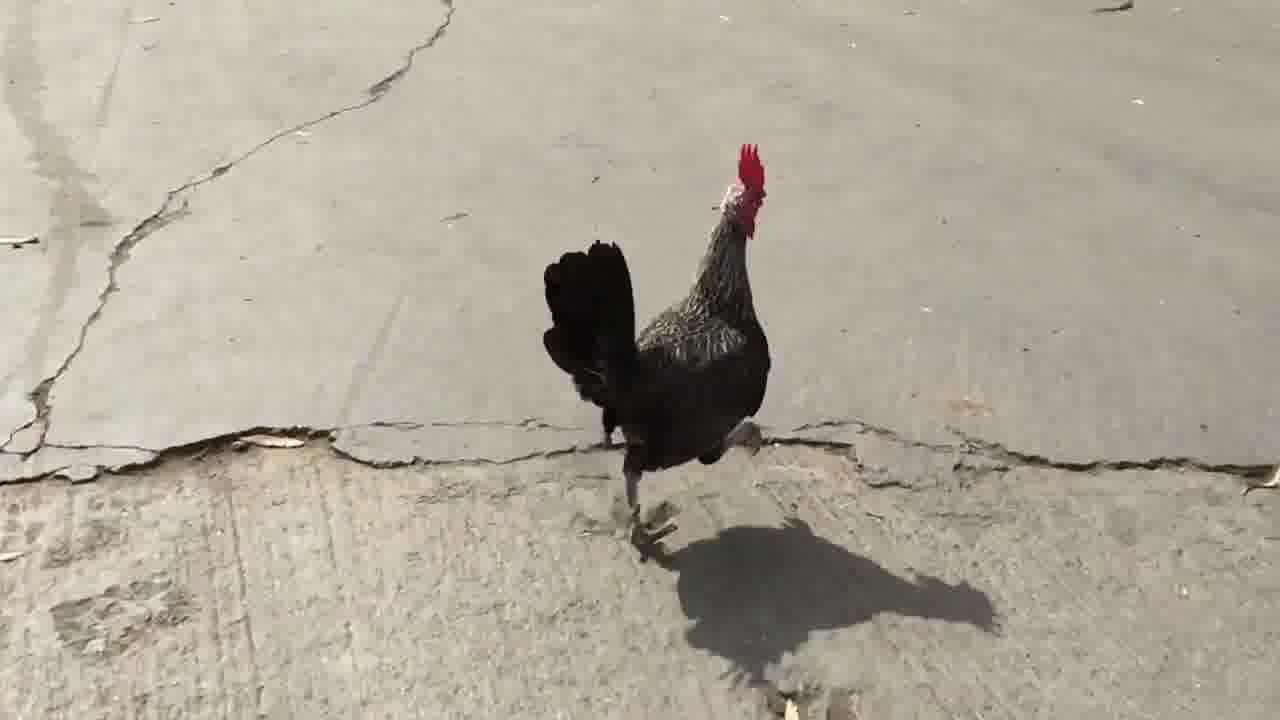Normal: (534, 144, 788, 548)
